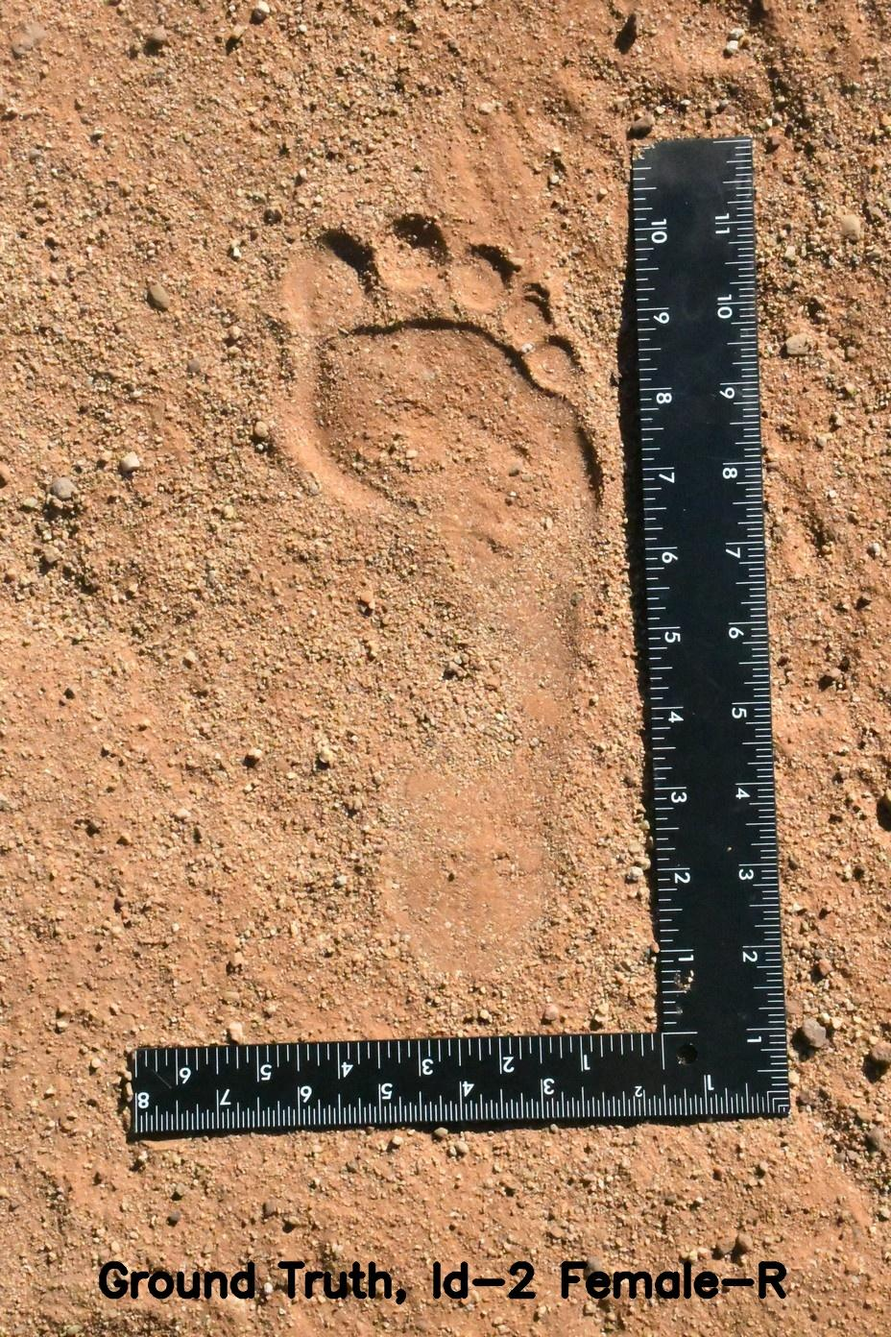human_footprint: (205, 219, 628, 996)
